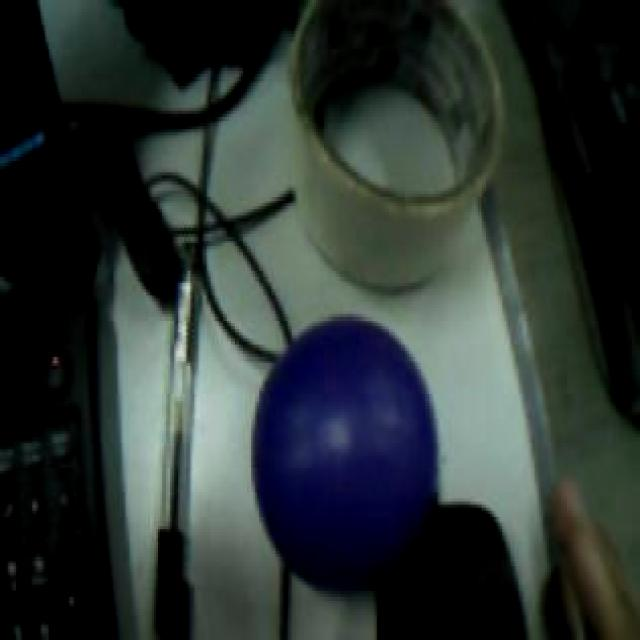BallPurple: (250, 314, 439, 590)
